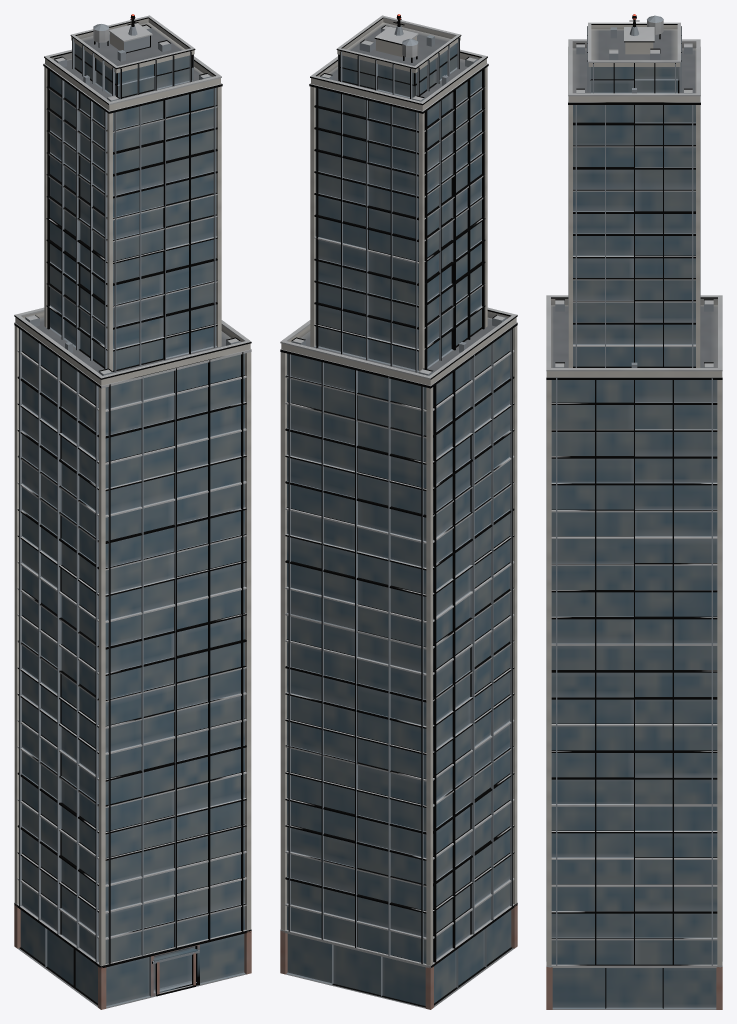
File: BldgTower.fbx
3 renders of one model, left to right at view 1: azimuth 30°, elevation 25°; view 2: azimuth 150°, elevation 25°; view 3: azimuth 270°, elevation 25°, orthographic.
Parts seen in each view (by area): view 1: BldgTower; view 2: BldgTower; view 3: BldgTower.
Part boxes in pixels (<box>): BldgTower: <box>14,14,251,1009</box>; BldgTower: <box>280,14,517,1009</box>; BldgTower: <box>546,14,722,1009</box>.
Bounding box in the file's own units: 2000 × 12000 × 2000.
Materials: 1 (1 with a texture image).
